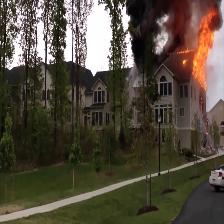fire: (128, 2, 190, 50), (192, 27, 213, 78)
